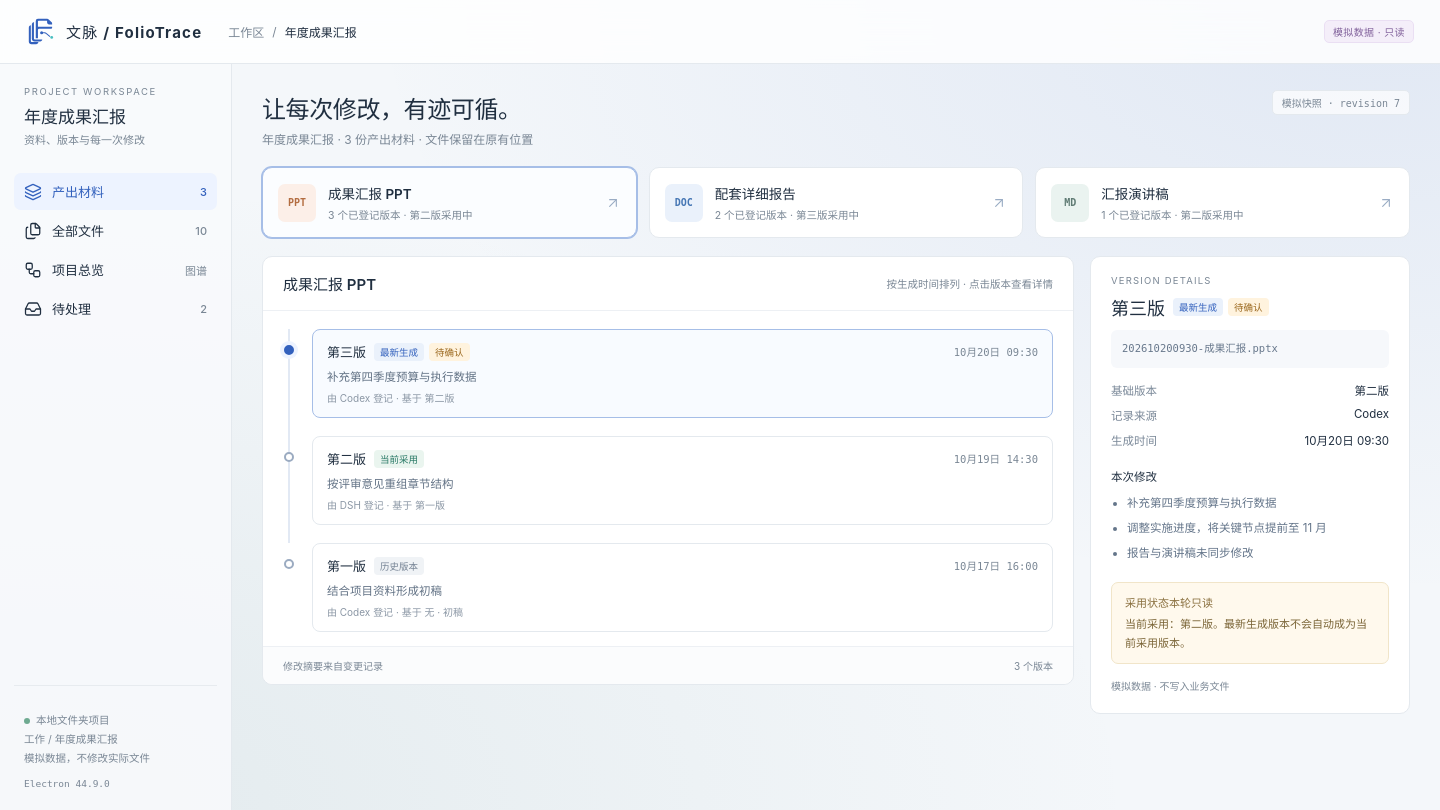
Test: 产出材料工作台 › 未实现页面显示明确的里程碑占位，并可返回产出材料
Expected: the list named "产出材料" is shown, [262,167,1410,238]
Click the button "全部文件 10".
click(116, 230)  # box [14,212,217,249]
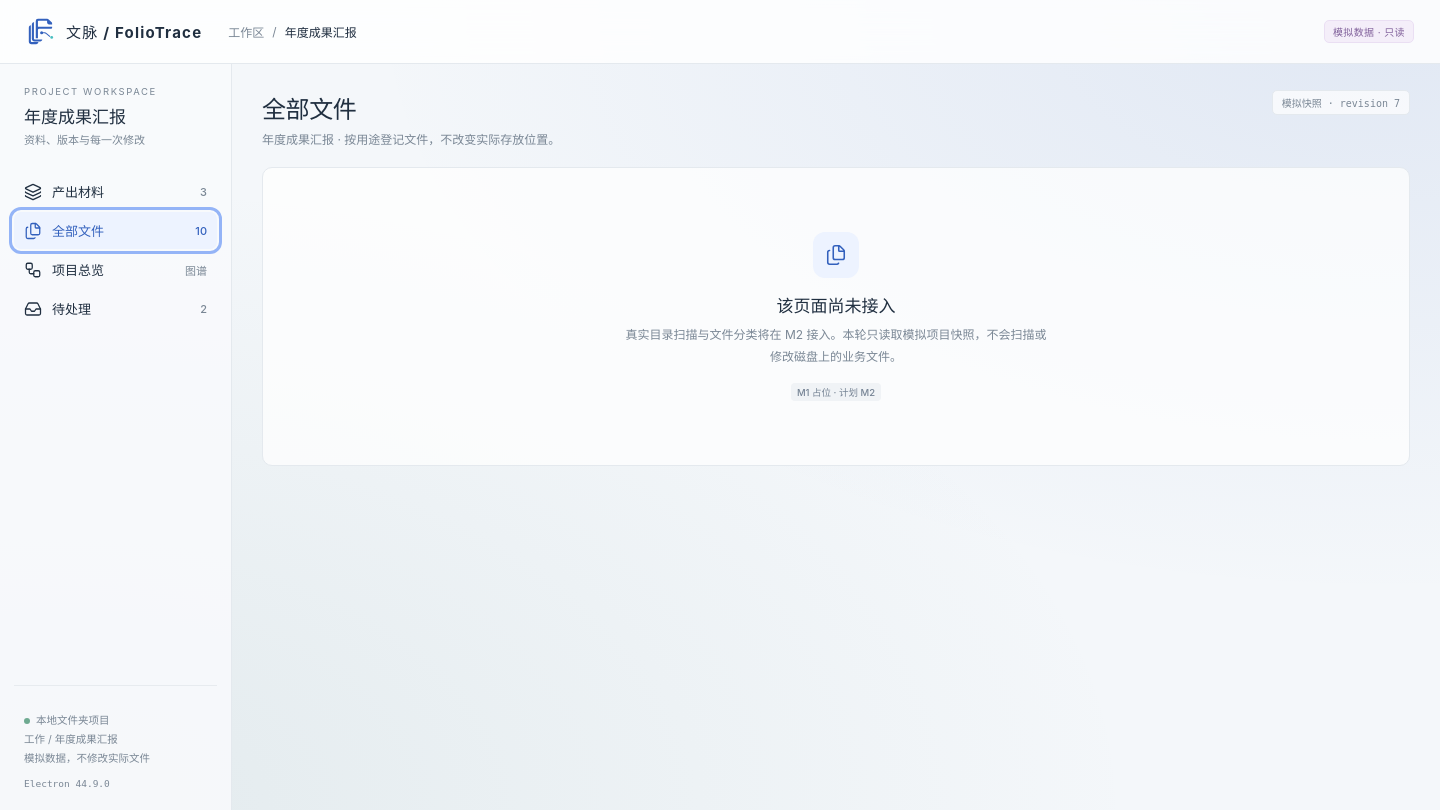
Now the heading "全部文件" is shown, box [262,95,356,124]
Now the heading "该页面尚未接入" is shown, box [776,292,896,317]
Now the text "M1 占位 · 计划 M2" is shown, box [791,383,881,401]
Click the button "项目总览 图谱".
click(116, 270)  # box [14,251,217,288]
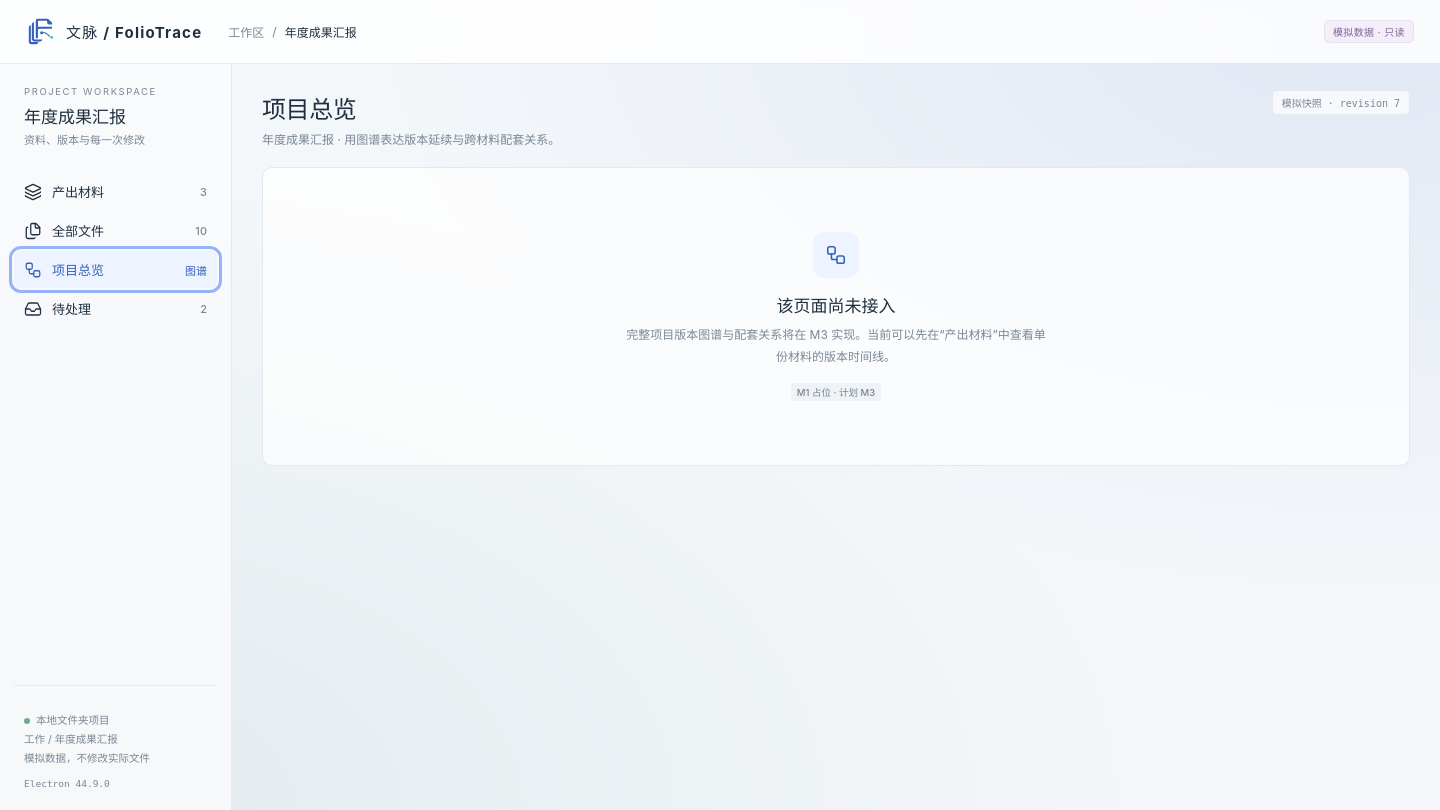
Now the heading "项目总览" is shown, box [262,95,356,124]
Now the text "M1 占位 · 计划 M3" is shown, box [791,383,881,401]
Click the button "待处理 2".
click(116, 308)  # box [14,290,217,327]
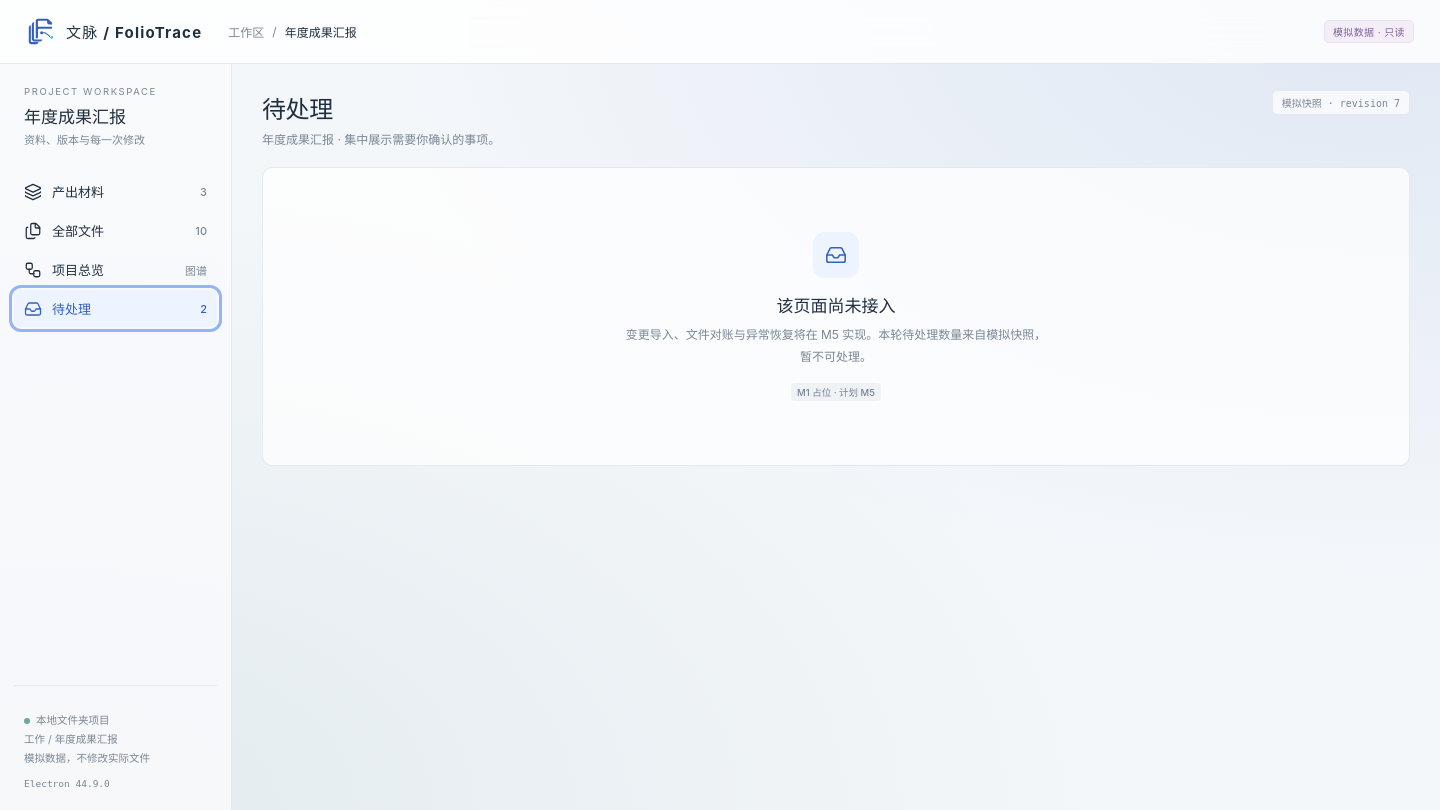
Now the heading "待处理" is shown, box [262,95,333,124]
Now the text "M1 占位 · 计划 M5" is shown, box [791,383,881,401]
Click the button "产出材料 3".
click(116, 192)  # box [14,173,217,210]
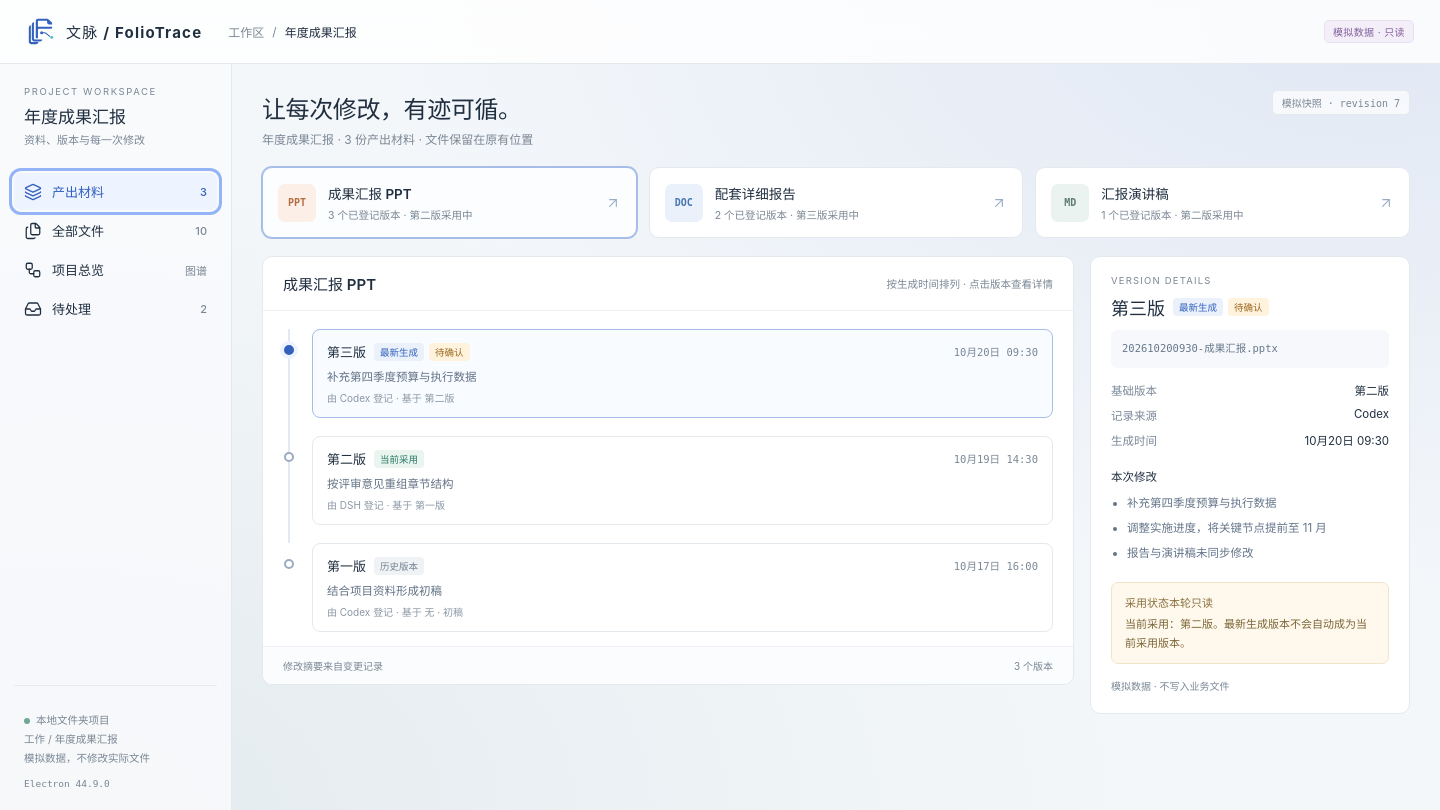
Now the heading "让每次修改，有迹可循。" is shown, box [262,90,533,125]
